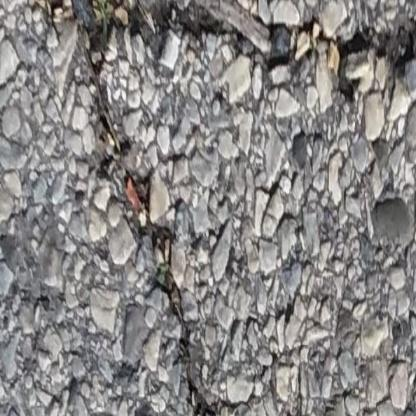Cracks: (90, 86, 223, 416), (19, 0, 416, 95)
